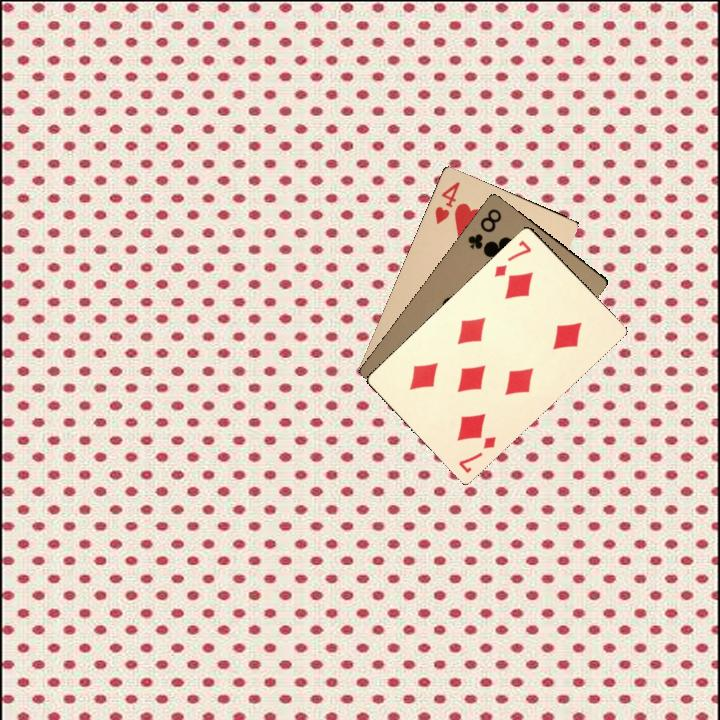4h: (431, 177, 463, 226)
7d: (490, 236, 534, 279), (455, 432, 499, 475)
8c: (464, 204, 504, 252)
